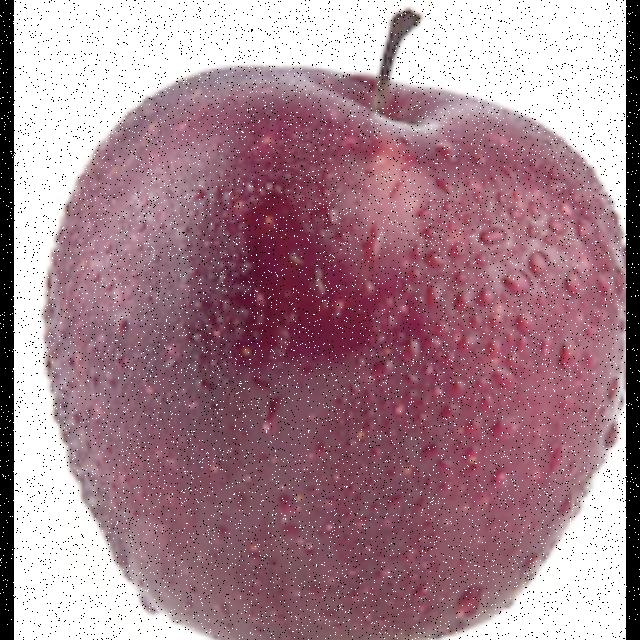Apel Segar: (41, 12, 627, 640)
